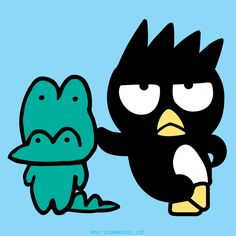batsumaru: (107, 19, 228, 217)
